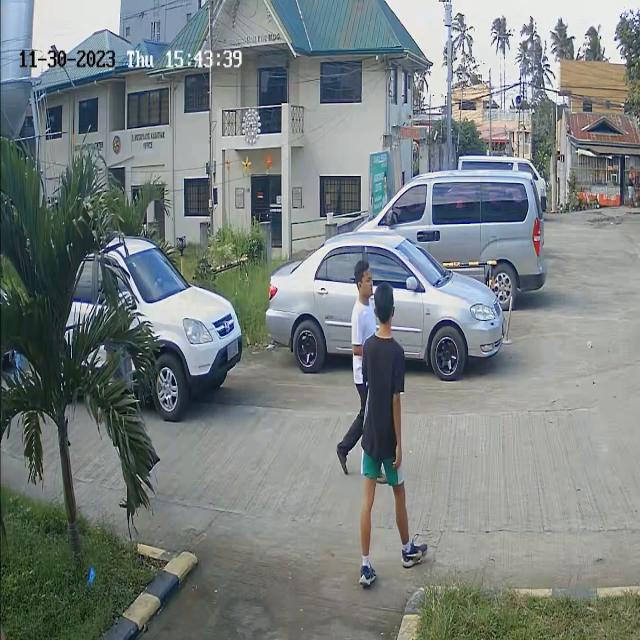person: (344, 252, 414, 464)
